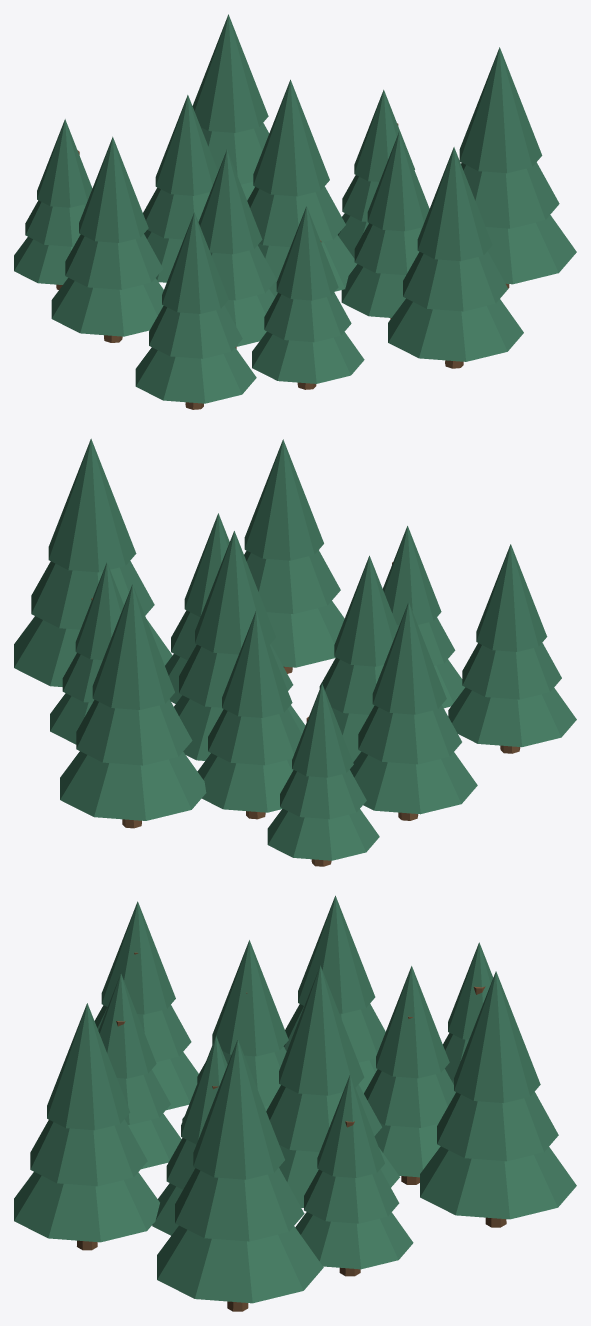
The model's file is FEATURE_TAIGA_v01.fbx.
3 renders of one model, top to bottom at view 1: azimuth 30°, elevation 25°; view 2: azimuth 150°, elevation 25°; view 3: azimuth 270°, elevation 25°, orthographic. The views are drawn at different scales.
Parts seen in each view (by area): view 1: Pine_whorl.057, Pine_whorl.068, Pine_whorl.062, Pine_whorl.038, Pine_whorl.054, Pine_whorl.063, Pine_whorl.059, Pine_whorl.058, Pine_whorl.067, Pine_whorl.048, Pine_whorl.056, Pine_whorl.066 (+23 smaller); view 2: Pine_whorl.060, Pine_whorl.068, Pine_whorl.062, Pine_whorl.061, Pine_whorl.054, Pine_whorl.063, Pine_whorl.059, Pine_whorl.038, Pine_whorl.056, Pine_whorl.055, Pine_whorl.067, Pine_whorl.065 (+24 smaller); view 3: Pine_whorl.066, Pine_whorl.060, Pine_whorl.057, Pine_whorl.068, Pine_whorl.067, Pine_whorl.062, Pine_whorl.061, Pine_whorl.038, Pine_whorl.059, Pine_whorl.058, Pine_whorl.041, Pine_whorl.047 (+21 smaller).
Part boxes in pixels (x1,y1,x2,y2): Pine_whorl.057: (388, 298, 523, 361); Pine_whorl.068: (459, 47, 542, 173); Pine_whorl.062: (192, 14, 268, 132); Pine_whorl.038: (253, 79, 329, 196); Pine_whorl.054: (51, 278, 163, 336); Pine_whorl.063: (135, 347, 256, 403); Pine_whorl.059: (417, 147, 492, 261); Pine_whorl.058: (403, 251, 508, 311); Pine_whorl.067: (461, 162, 559, 228); Pine_whorl.048: (252, 331, 364, 383); Pine_whorl.056: (79, 136, 148, 242); Pine_whorl.066: (485, 215, 576, 284); Pine_whorl.060: (60, 751, 206, 820); Pine_whorl.068: (48, 438, 136, 572); Pine_whorl.062: (92, 584, 174, 709); Pine_whorl.061: (76, 699, 192, 765); Pine_whorl.054: (350, 751, 477, 814); Pine_whorl.063: (448, 687, 576, 747); Pine_whorl.059: (244, 439, 323, 560); Pine_whorl.038: (195, 531, 276, 654); Pine_whorl.056: (372, 602, 446, 714); Pine_whorl.055: (358, 705, 461, 764); Pine_whorl.067: (31, 561, 154, 629); Pine_whorl.065: (476, 544, 547, 651); Pine_whorl.066: (157, 1225, 323, 1303); Pine_whorl.060: (420, 1146, 576, 1219); Pine_whorl.057: (14, 1172, 159, 1242); Pine_whorl.068: (193, 1039, 284, 1179); Pine_whorl.067: (175, 1168, 304, 1241); Pine_whorl.062: (454, 971, 540, 1103); Pine_whorl.061: (437, 1092, 558, 1161); Pine_whorl.038: (279, 965, 364, 1095); Pine_whorl.059: (47, 1003, 130, 1130); Pine_whorl.058: (30, 1119, 147, 1186); Pine_whorl.041: (212, 940, 288, 1056); Pine_whorl.047: (376, 966, 449, 1078).
Bounding box in the file's own units: 140 × 68.93 × 131.
